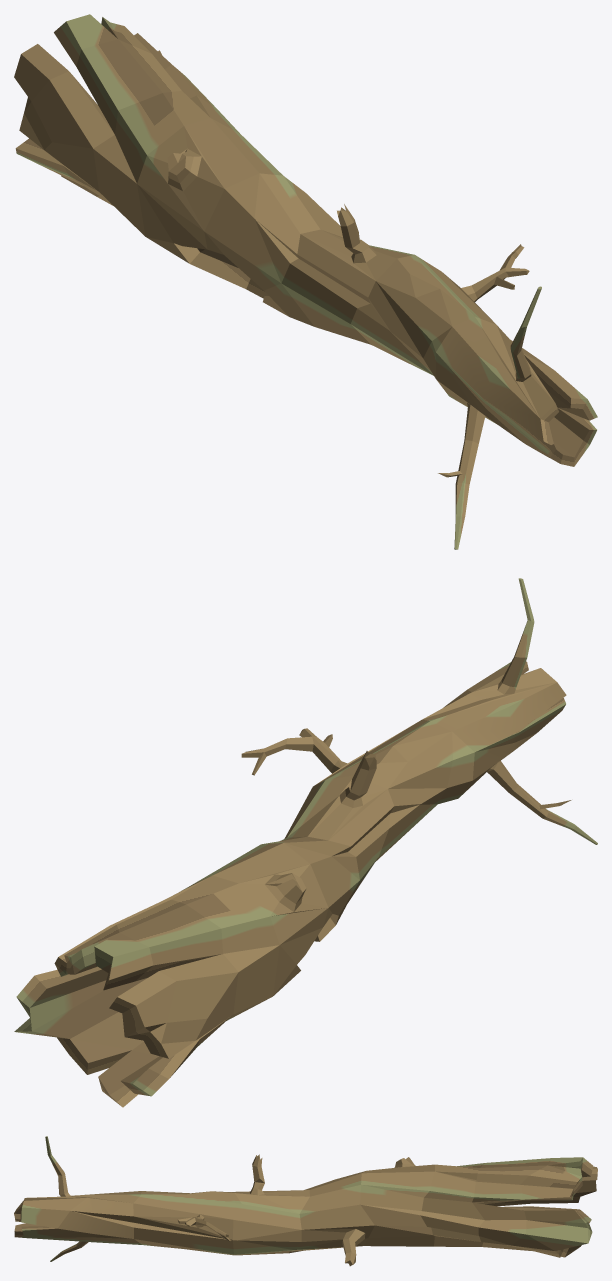
The model's file is SM_Prop_Swamp_Log_06.fbx.
3 views of the same model, one above another, from view 1: azimuth 30°, elevation 25°; view 2: azimuth 150°, elevation 25°; view 3: azimuth 270°, elevation 25° (orthographic). The views are drawn at different scales.
Parts seen in each view (by area): view 1: SM_Prop_Swamp_Log_06; view 2: SM_Prop_Swamp_Log_06; view 3: SM_Prop_Swamp_Log_06.
Boxes of the visible parts, box(x1,y1,x2,y2) form: SM_Prop_Swamp_Log_06: box(14, 14, 597, 549); SM_Prop_Swamp_Log_06: box(14, 578, 597, 1107); SM_Prop_Swamp_Log_06: box(14, 1136, 597, 1266).
Size of the model in its own units: 309 by 334 by 1185.
Materials: 1 (1 with a texture image).
